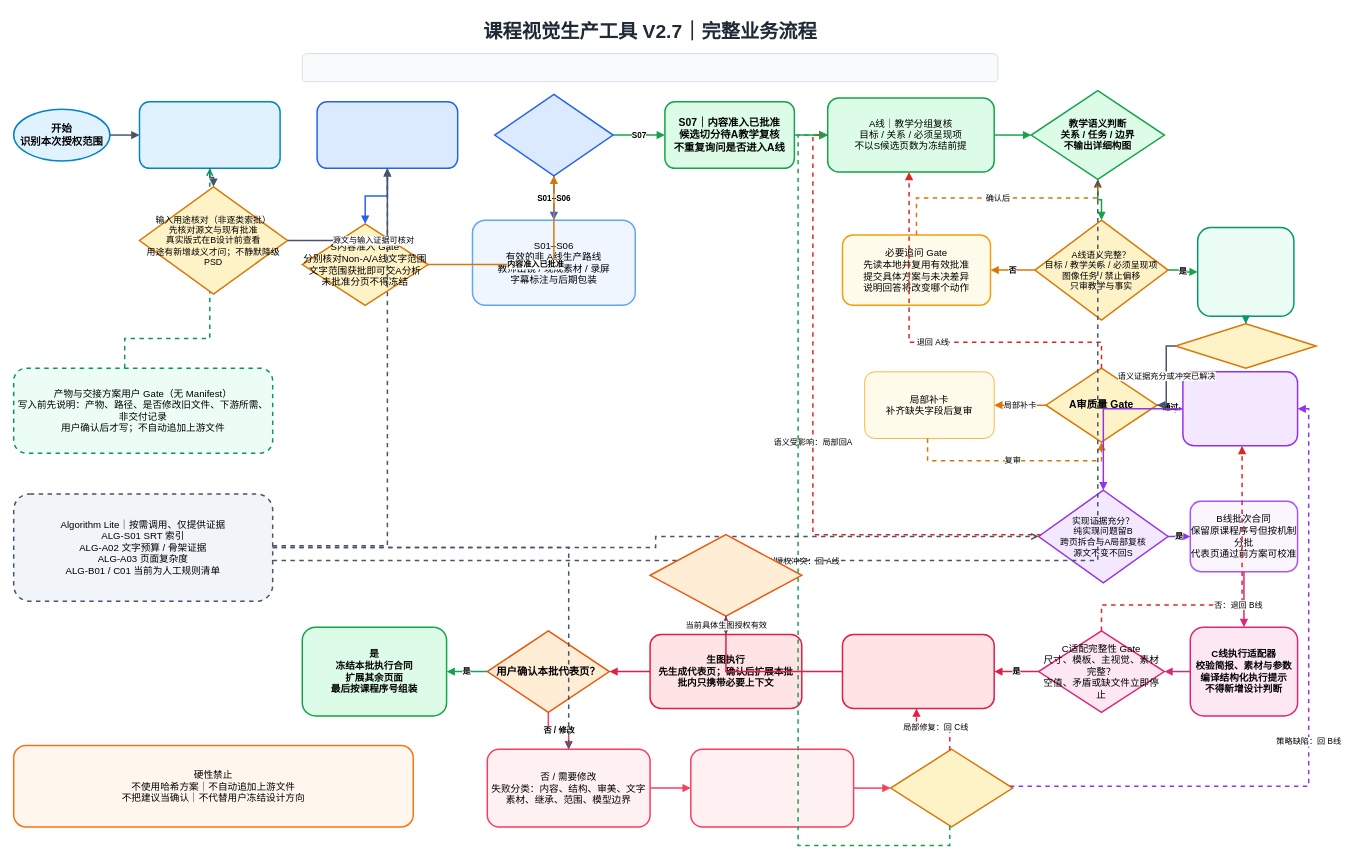
Image size: 1353x864. Some labels were removed from this diagram. Each missing label, with the box of its shape:
A教学语义核对 复用批准与原文证据 关键语义冲突才问用户 检查通过不等于执行分页获批: (1174, 323, 1316, 369)
B线｜实现页面方案 真实资产与可读性证据 跨页拆合交A局部复核: (1182, 371, 1298, 446)
C线生图授权Gate 核对具体页/批次首轮授权 已有有效授权不重复索批 提示词通过不等于授权生图: (649, 534, 802, 616)
S01–S08 媒介路由判断: (494, 93, 613, 176)
S线：读取内容与语义合并 保留时间范围与来源行 不按字幕句逐页切分: (316, 101, 458, 169)
共享页面简报 A区 只记录教学语义与硬约束 后续追加、不重复转述: (1197, 226, 1294, 317)
实线：主生产流程 虚线：辅助证据或回退 菱形：Gate / 判断 所有用户 Gate 一次只问一个问题: (302, 53, 998, 82)
局部修改合同 keep_items / change_only_items forbidden_changes / minimal prompt: (690, 748, 854, 827)
批次代表页校准 每批独立上下文 说明风险、固定项与可变项: (841, 633, 995, 709)
缺陷属于哪一层？: (889, 748, 1013, 827)
输入证据读取与分类 先核对源文 / 事实 / 素材 B线设计前核验版式母版 按六类记录模板/参考角色: (138, 101, 280, 169)
